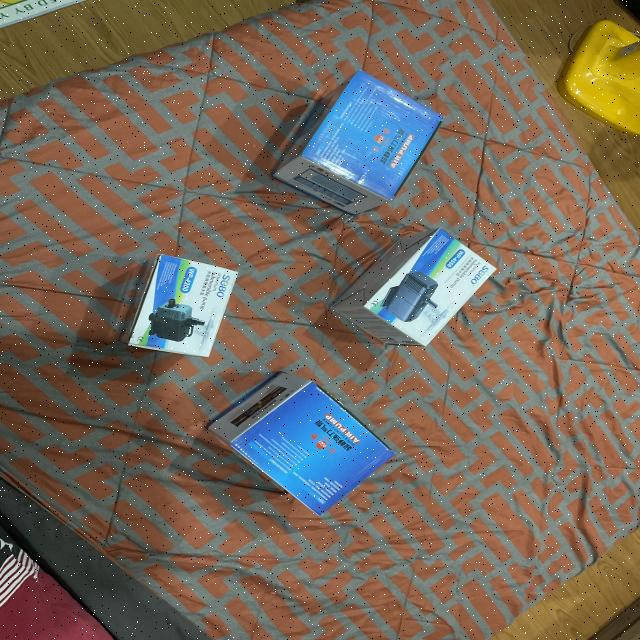SOBO_WP_4200: (325, 222, 503, 354), (102, 244, 240, 364)
YAMANO_LPP_20: (194, 368, 404, 518), (266, 68, 448, 216)
